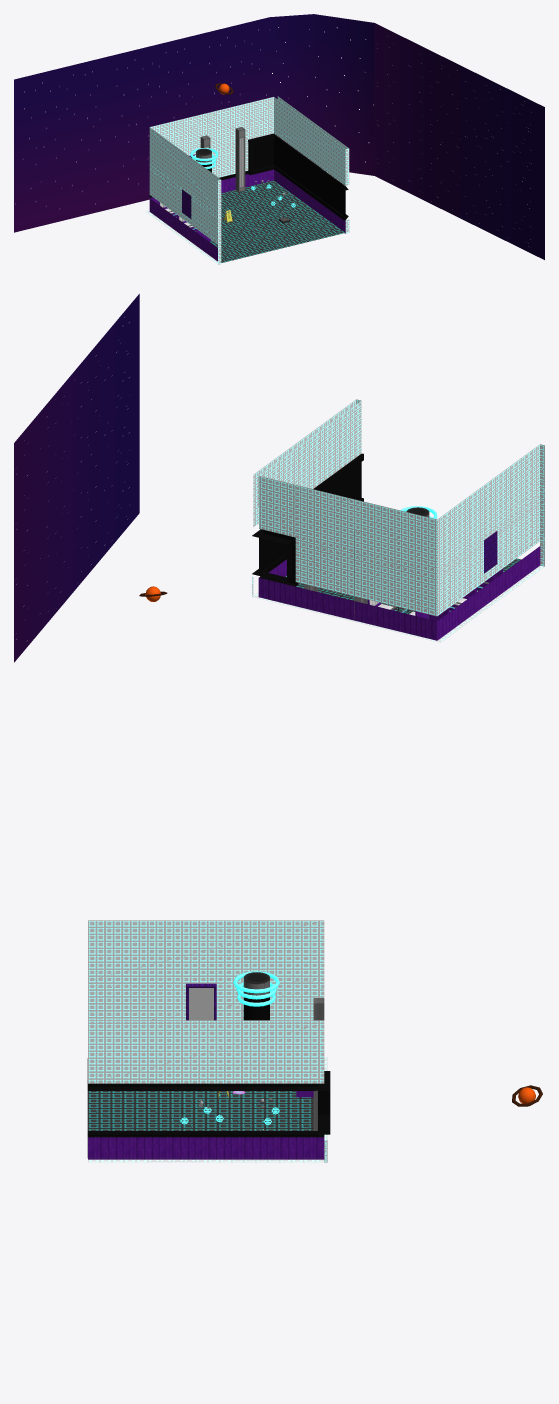
File: BarOptimizedFinal.fbx
3 renders of one model, top to bottom at view 1: azimuth 30°, elevation 25°; view 2: azimuth 150°, elevation 25°; view 3: azimuth 270°, elevation 25°, orthographic. The views are drawn at different scales.
Parts seen in each view (by area): view 1: Plane003, Box015, Plane001, Object033, Cristal, Object032, Parte Superior; view 2: Box015, Plane003, Object033, Object032, Cristal; view 3: Box015, Plane001, Object033, Object032, Box033.
Boxes of the visible parts, <box> form: Plane003: <box>14,14,544,259</box>; Box015: <box>145,96,349,264</box>; Plane001: <box>176,180,345,262</box>; Object033: <box>149,169,345,261</box>; Cristal: <box>254,140,345,216</box>; Object032: <box>248,133,348,220</box>; Parte Superior: <box>235,127,245,191</box>; Box015: <box>252,399,544,642</box>; Plane003: <box>14,294,139,662</box>; Object033: <box>258,546,540,640</box>; Object032: <box>252,453,363,586</box>; Cristal: <box>259,462,361,572</box>; Box015: <box>88,920,327,1162</box>; Plane001: <box>87,1058,323,1158</box>; Object033: <box>88,1137,324,1159</box>; Object032: <box>87,1071,330,1137</box>; Box033: <box>186,983,216,1020</box>.
Size of what is drawn, in the model's own units: 19471 by 7704 by 14688.
